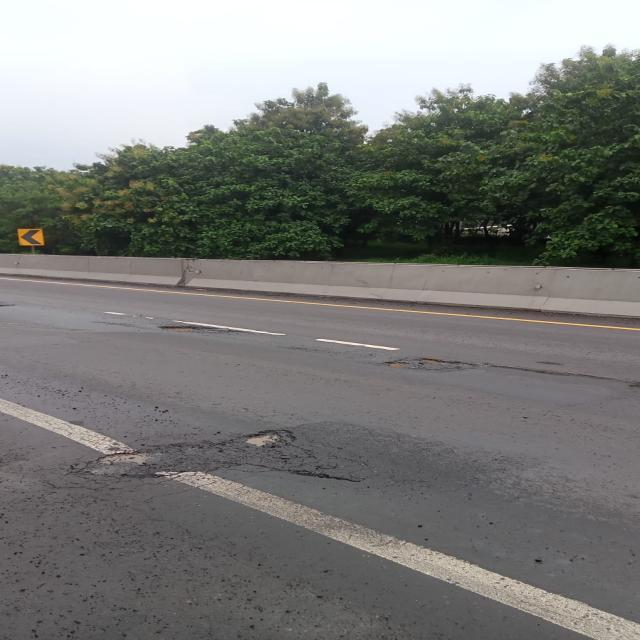Buraco: (64, 426, 300, 481), (379, 356, 498, 374), (154, 324, 252, 336)
